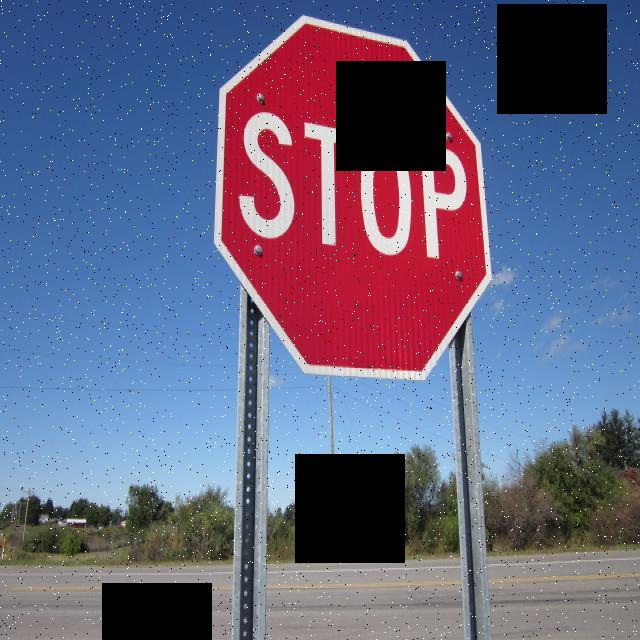stop: (202, 6, 500, 384)
